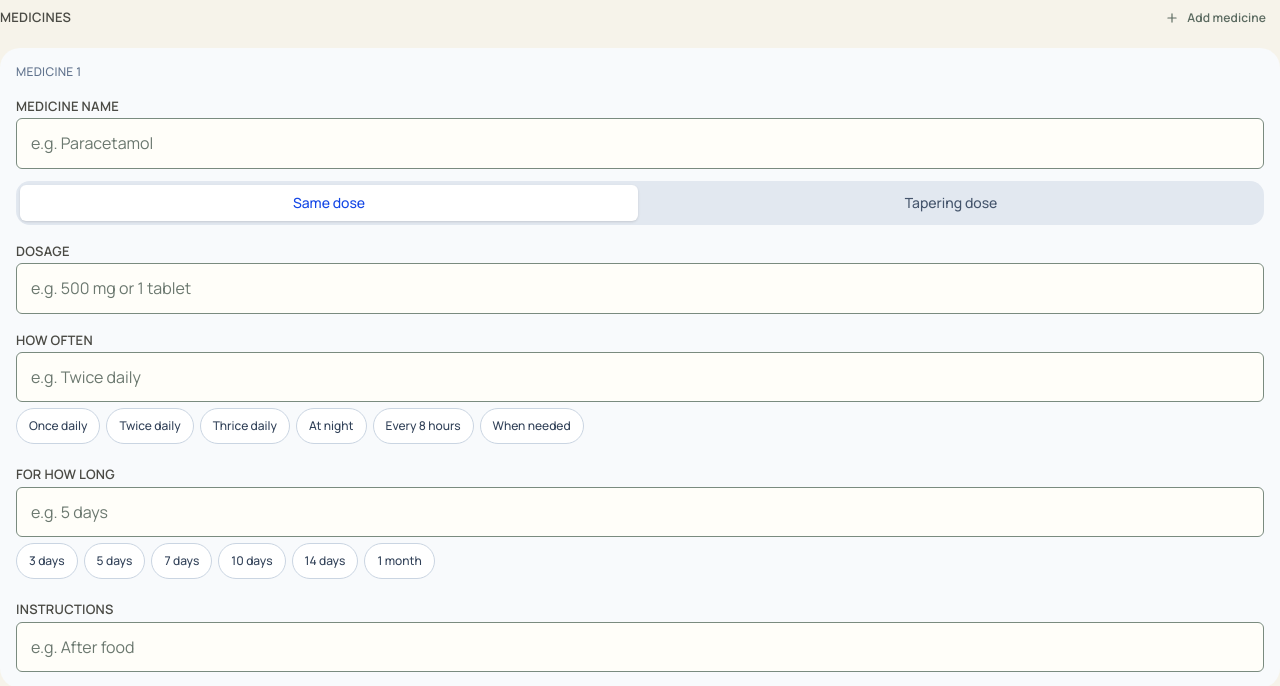
Test case: medicine name dropdown › brings back a tapering course as a tapering course
This screenshot has width=1280, height=686.
Type "pre" into the dropdown labelled "Medicine name" at (640, 144), box [16,118,1264,169]
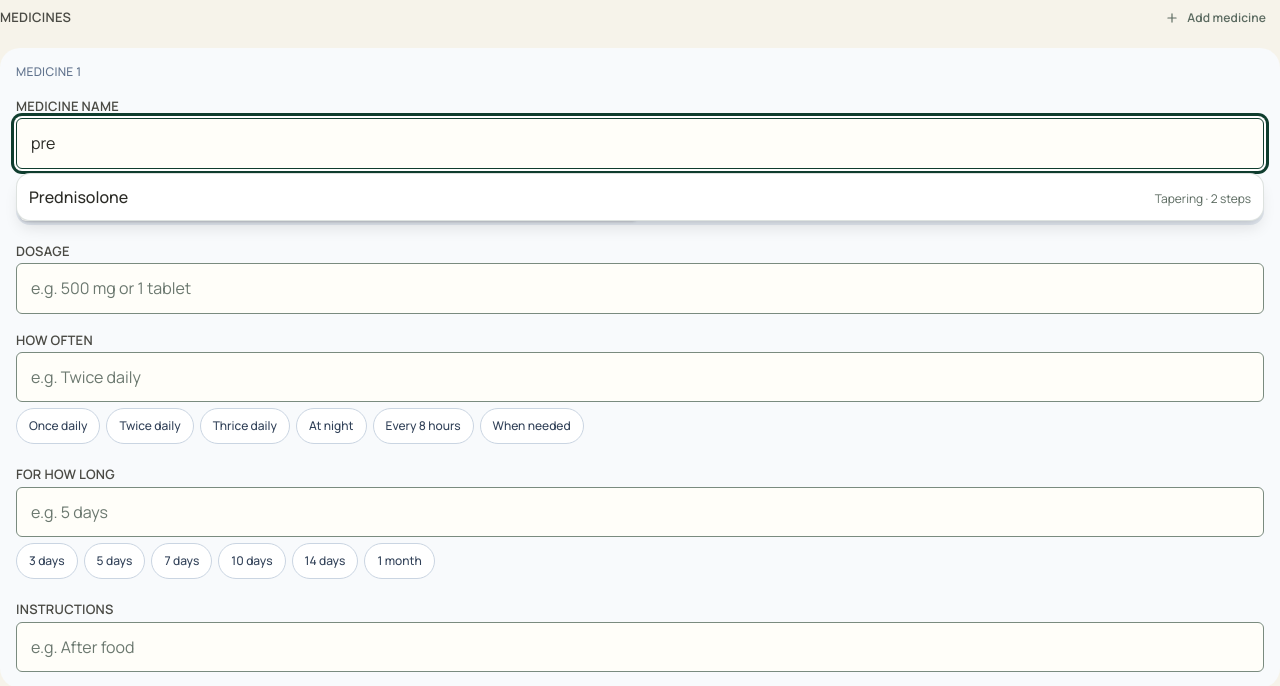
Check: the option "Prednisolone Tapering · 2 steps" is shown
Click the option "Prednisolone Tapering · 2 steps" at (79, 197), box [29,186,1251,208]
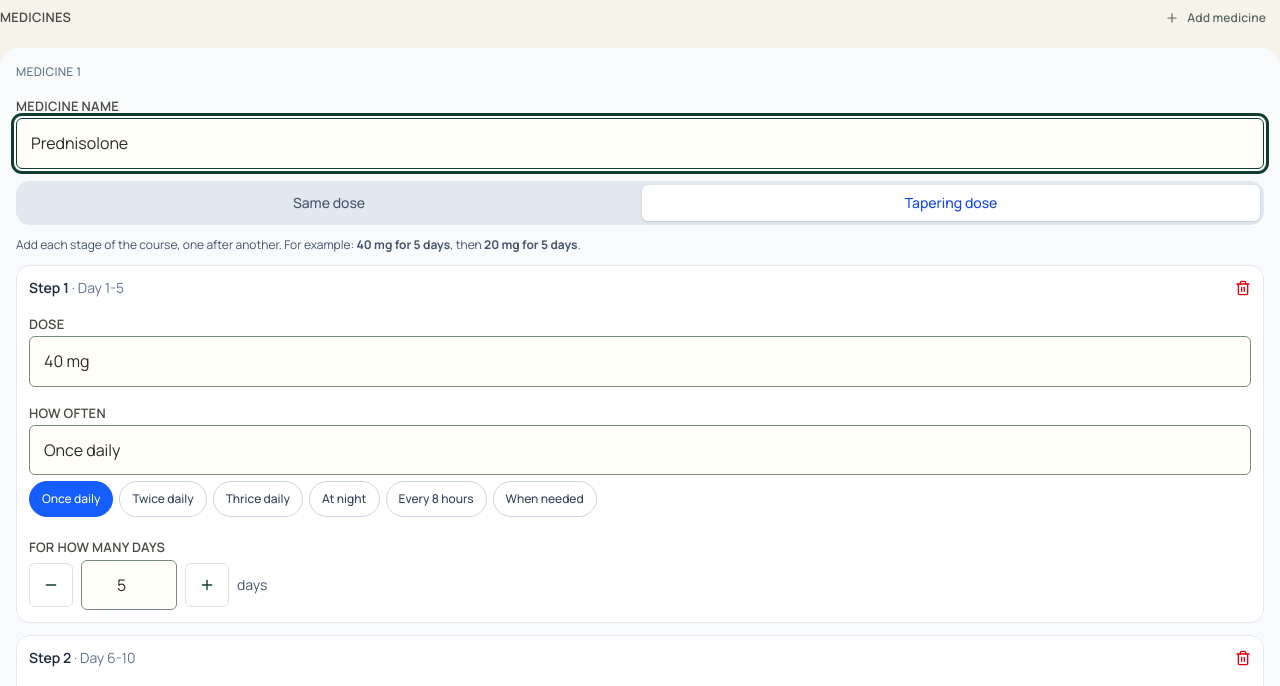
Check: the 1st field showing "40 mg" is shown, box [29,336,1251,387]
